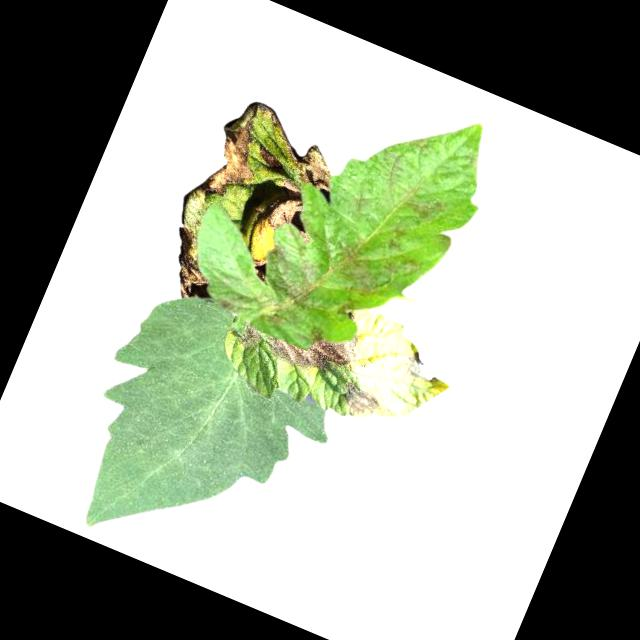Late_blight: (196, 90, 285, 208), (226, 233, 328, 335), (261, 304, 363, 386), (152, 225, 231, 309), (321, 235, 390, 303), (252, 176, 311, 243), (287, 140, 343, 198), (398, 348, 448, 392), (336, 379, 386, 422), (399, 187, 449, 228), (231, 320, 265, 355), (255, 144, 288, 173), (294, 228, 314, 246)
